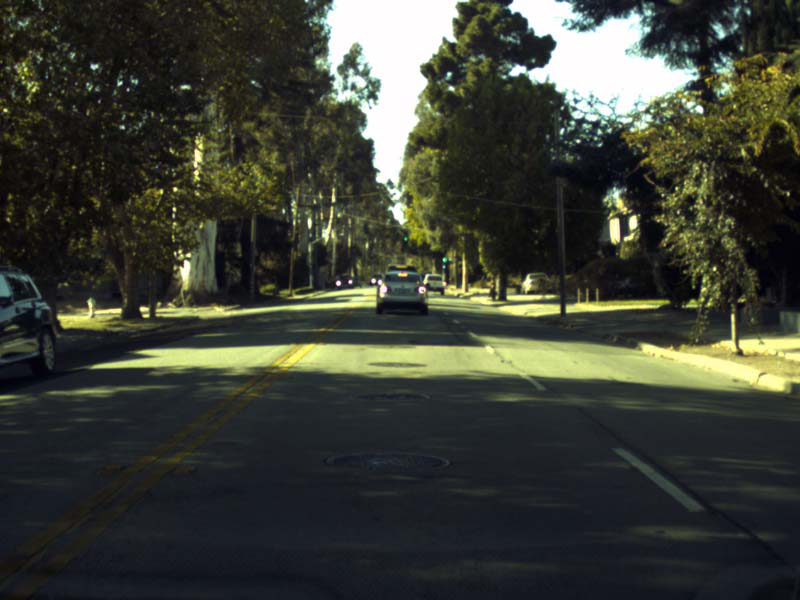Green: (441, 250, 447, 263), (403, 231, 407, 242)
